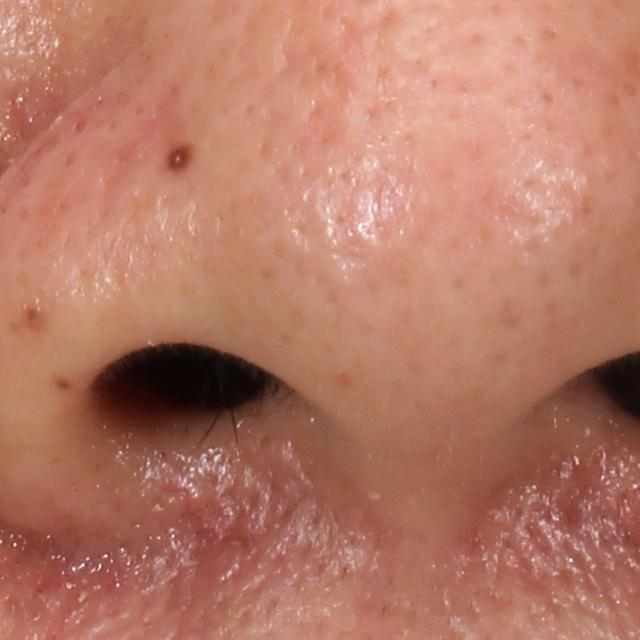atrophic_scar: (152, 495, 266, 601), (341, 3, 402, 47)
nevus: (163, 143, 193, 174)
